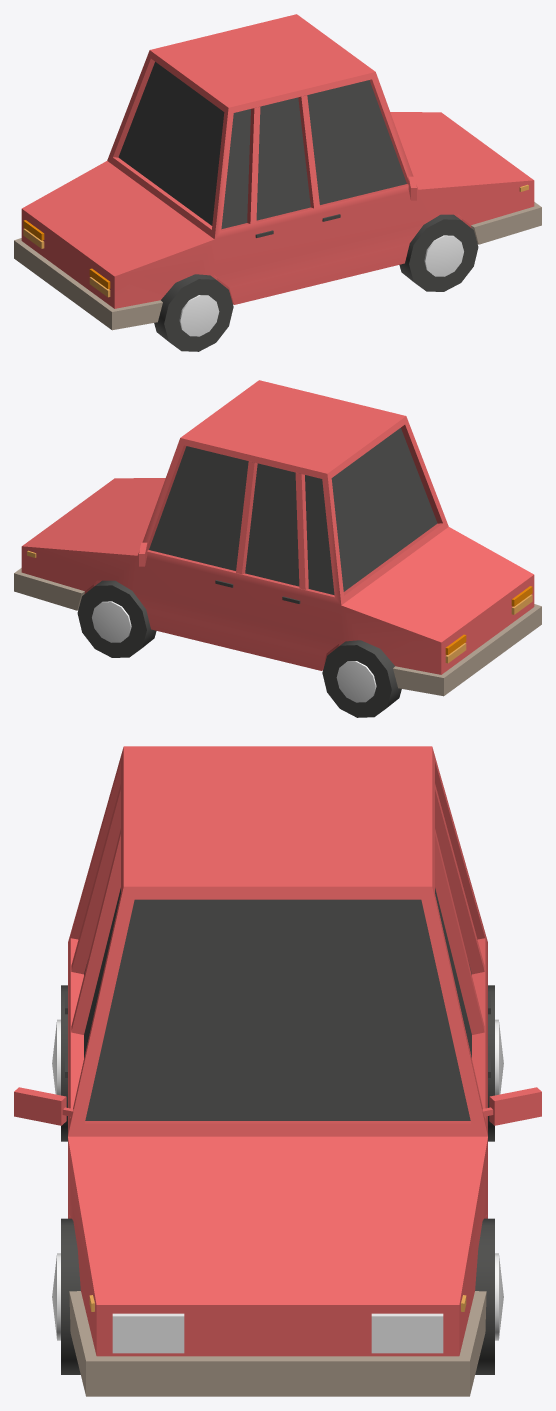
Rendered from car_pink.fbx.
The picture shows the model from 3 angles, top to bottom: view 1: azimuth 30°, elevation 25°; view 2: azimuth 150°, elevation 25°; view 3: azimuth 270°, elevation 25°; orthographic projection. The views are drawn at different scales.
Visible parts, largest first — view 1: car_pink; view 2: car_pink; view 3: car_pink.
Boxes of the visible parts, x1,y1,x2,y2 form: car_pink: [14, 14, 541, 351]; car_pink: [14, 380, 541, 717]; car_pink: [14, 746, 541, 1396].
Bounding box in the file's own units: 290 × 142 × 158.
1 material, 1 textured.
